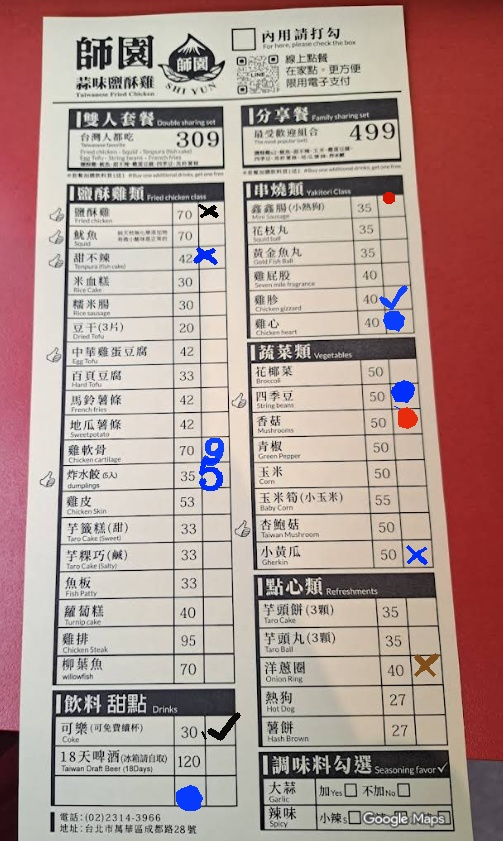marked_circle: (174, 776, 205, 804), (388, 383, 417, 406), (384, 309, 413, 332), (391, 408, 420, 431), (378, 196, 404, 215)
marked_number_5: (200, 462, 229, 485)
marked_number_9: (200, 437, 229, 460)
marked_tick: (205, 716, 236, 744), (382, 286, 411, 309)
marked_x: (409, 655, 440, 683), (401, 539, 432, 567), (196, 246, 225, 268), (197, 204, 223, 223)
